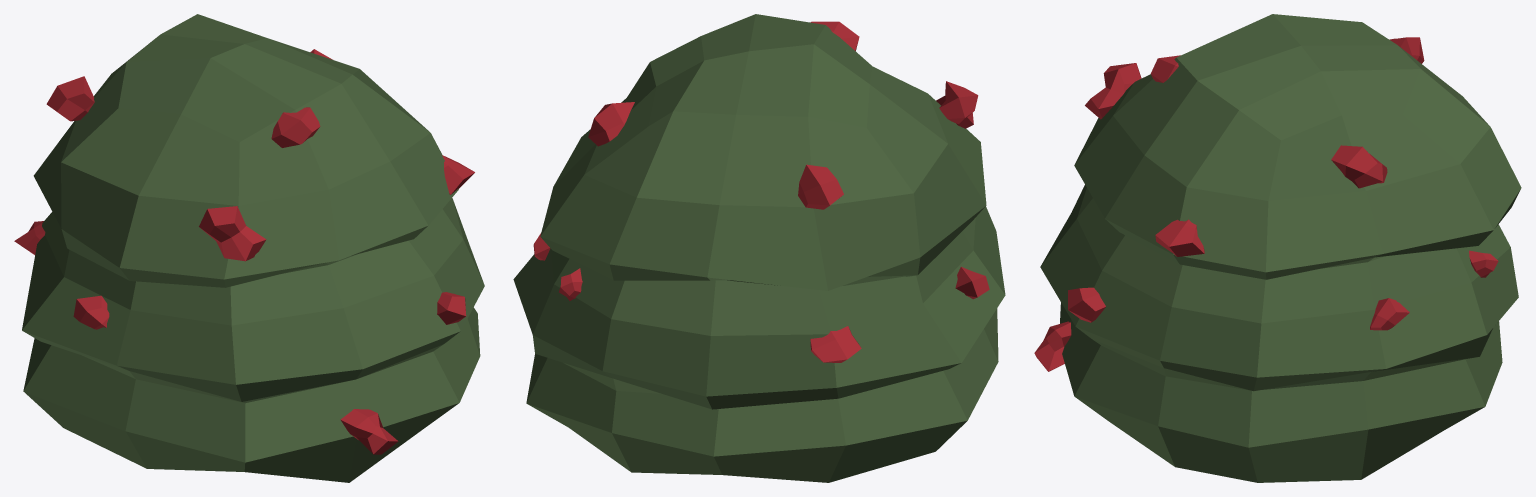
The model's file is Bush.glb.
The picture shows the model from 3 angles, left to right: view 1: azimuth 30°, elevation 25°; view 2: azimuth 150°, elevation 25°; view 3: azimuth 270°, elevation 25°; orthographic projection. The views are drawn at different scales.
Visible parts, largest first — view 1: BushBerries_2_Cube.039; view 2: BushBerries_2_Cube.039; view 3: BushBerries_2_Cube.039.
Part boxes in pixels (bbox=[...]): BushBerries_2_Cube.039: bbox=[14, 14, 484, 482]; BushBerries_2_Cube.039: bbox=[513, 14, 1005, 482]; BushBerries_2_Cube.039: bbox=[1034, 14, 1521, 482].
Size of the model in its own units: 1.34 by 1.13 by 1.33.
